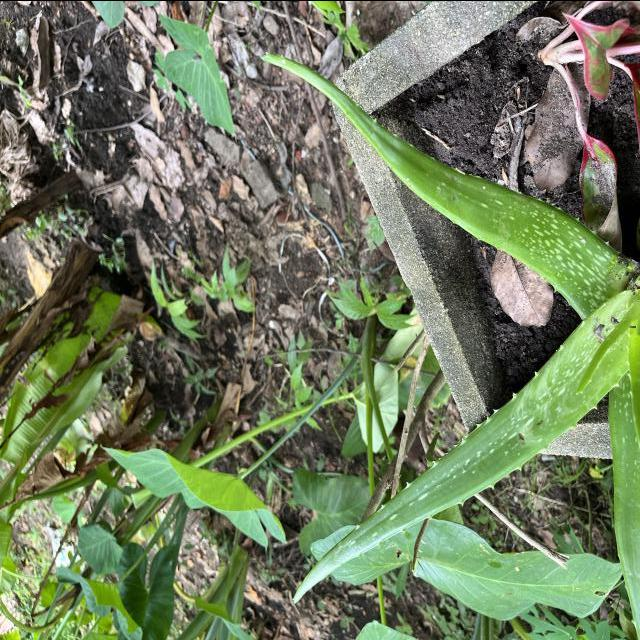Aloe vera: (286, 282, 640, 606), (253, 42, 640, 322)
